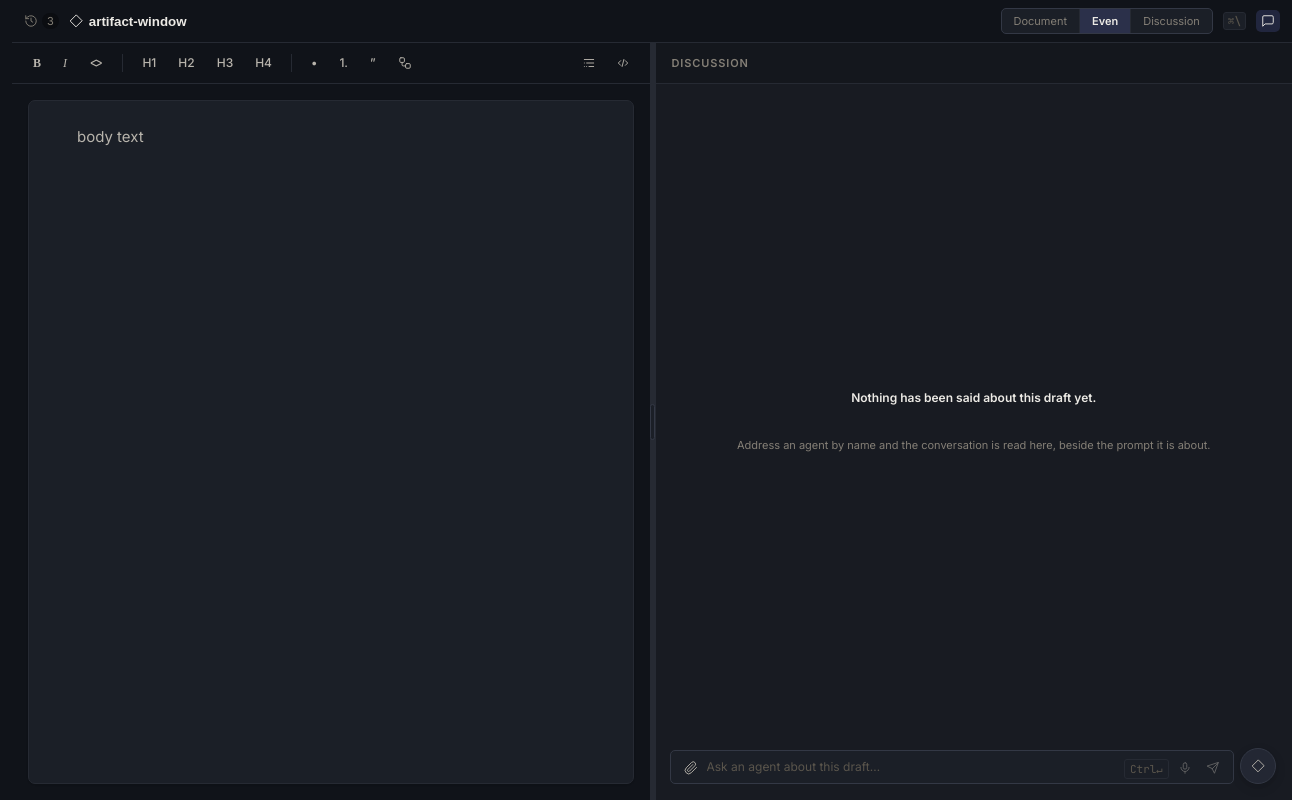
it: the History rail (NAW-FR-07 … NAW-FR-43) › NAW-FR-07, NAW-FR-38: lists versions newest first with their source, standing, and time
What coordinates should you click on to do the following:
click the button named "Show History"
I would click on:
 (41, 21)
Its box is x1=24 y1=13 x2=59 y2=29.
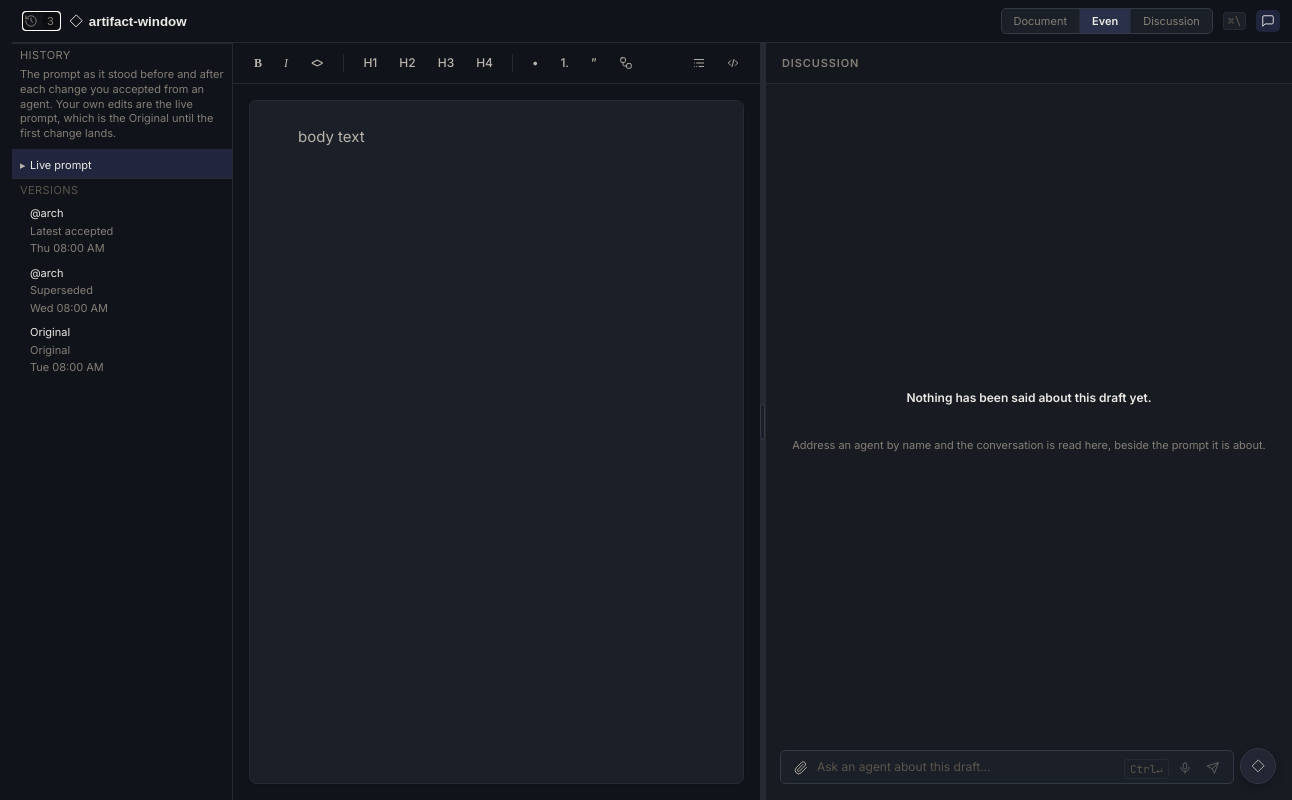
Check: the button with class "draft-version" shows "@arch", box x1=12 y1=201 x2=232 y2=261
Check: the button with class "draft-version" shows "Original", box x1=12 y1=320 x2=232 y2=380
Check: the button with class "draft-version" shows "Latest accepted", box x1=12 y1=201 x2=232 y2=261
